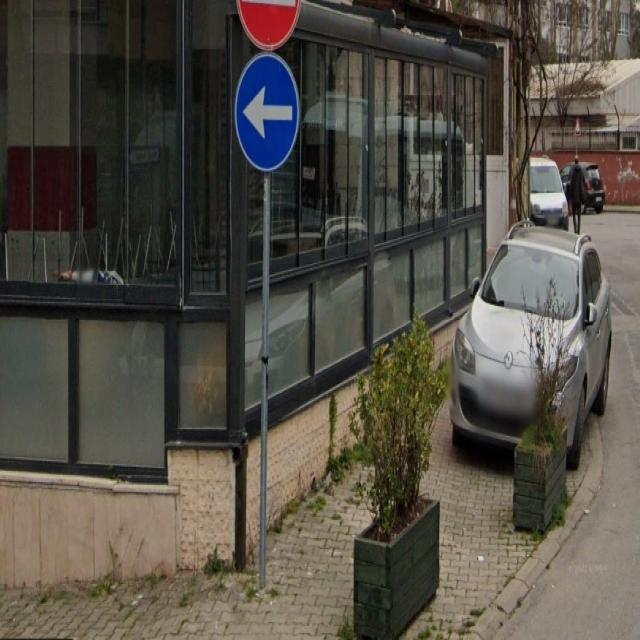Turn Left: (234, 49, 298, 171)
